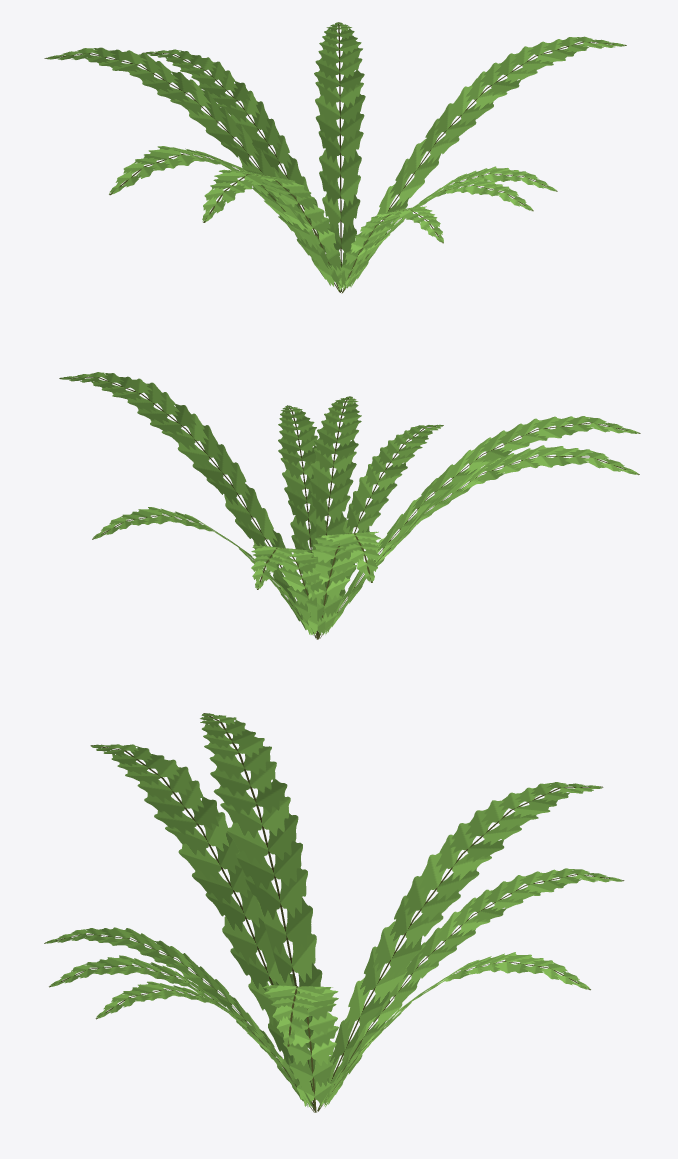
The model's file is fern_1.glb.
3 views of the same model, one above another, from view 1: azimuth 30°, elevation 25°; view 2: azimuth 150°, elevation 25°; view 3: azimuth 270°, elevation 25° (orthographic). The views are drawn at different scales.
Parts seen in each view (by area): view 1: fern_1; view 2: fern_1; view 3: fern_1.
Boxes of the visible parts, bbox=[...] form: fern_1: bbox=[44, 22, 626, 293]; fern_1: bbox=[59, 372, 640, 639]; fern_1: bbox=[44, 713, 624, 1112].
Bounding box in the file's own units: 1.85 × 0.6493 × 1.5.
Materials: 1 (1 with a texture image).
